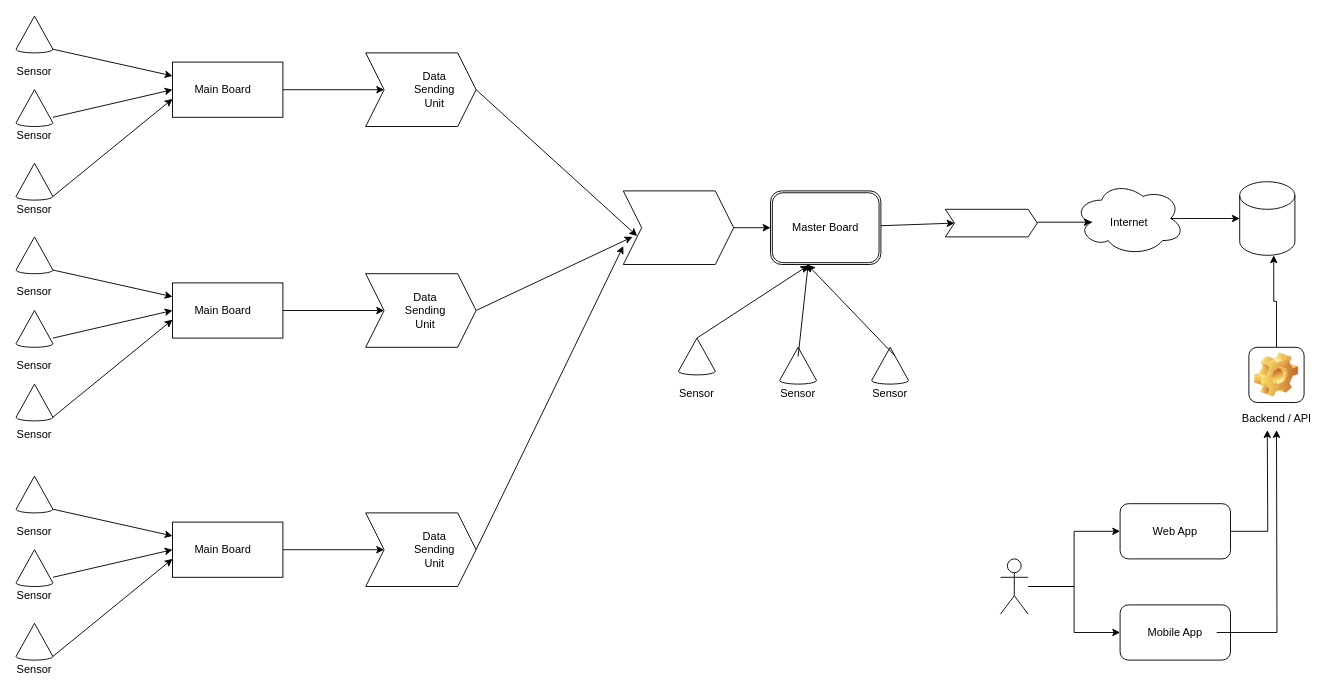
The diagram is 1327 pixels wide and 695 high, and some of its shapes have lost their labels. The shapes that lost their labels are listed below. From the top down, each one's centre as x and y in pixels, then its label:
(x=678, y=227): Data Receiving Unit
(x=990, y=222): Internet Connector
(x=1267, y=218): Database
(x=1014, y=586): Farmer
